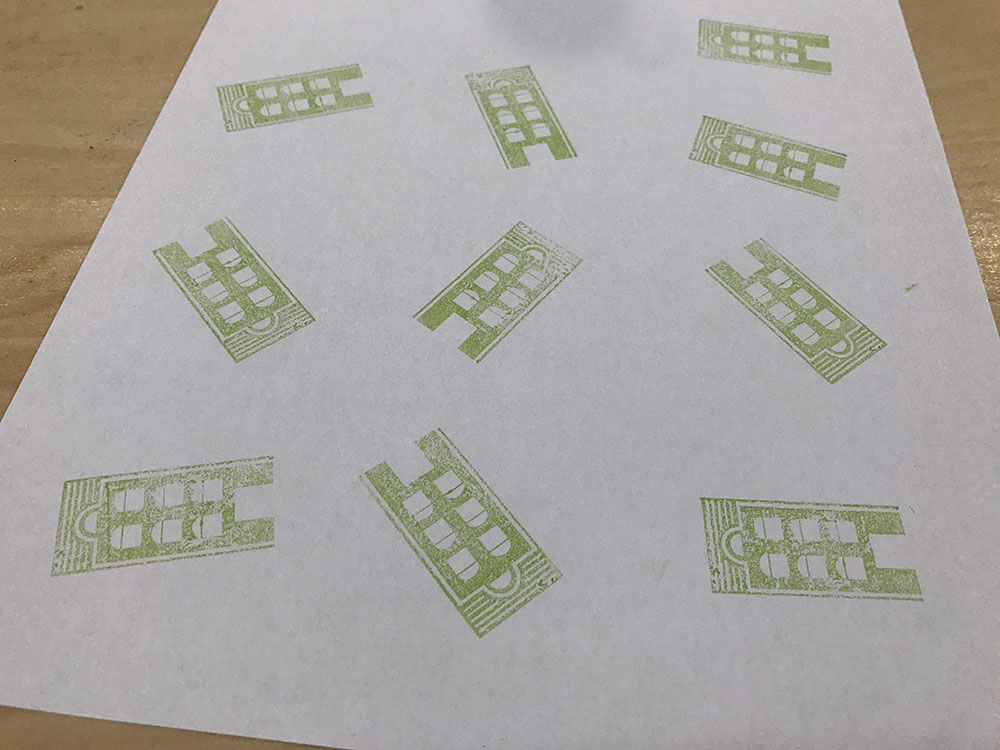build: (351, 413, 577, 661), (681, 480, 944, 623), (134, 207, 351, 378), (693, 227, 902, 402), (39, 451, 295, 586), (405, 208, 590, 376), (448, 43, 594, 188), (680, 107, 865, 213), (209, 57, 390, 142), (680, 10, 854, 87)
